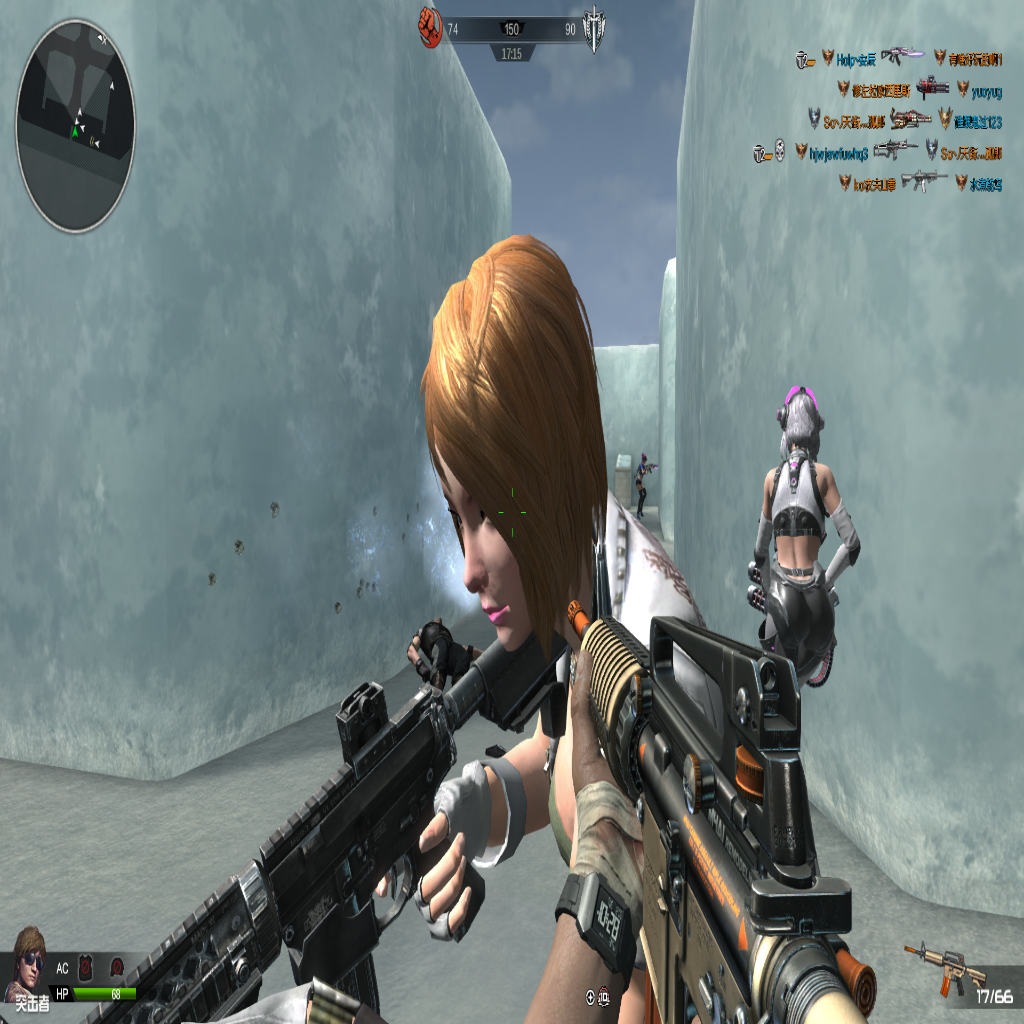ct: (634, 452, 652, 518)
tt: (747, 375, 862, 693)
